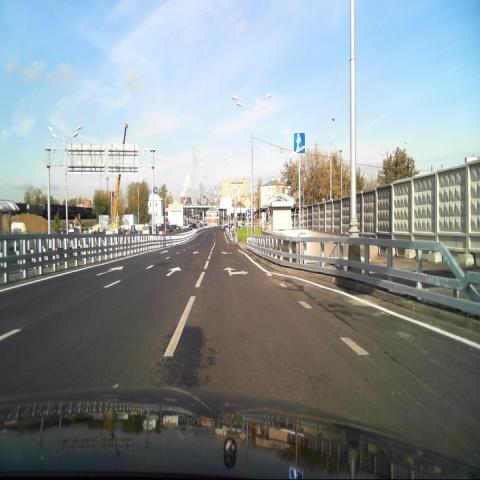6_6: (292, 132, 306, 153)
